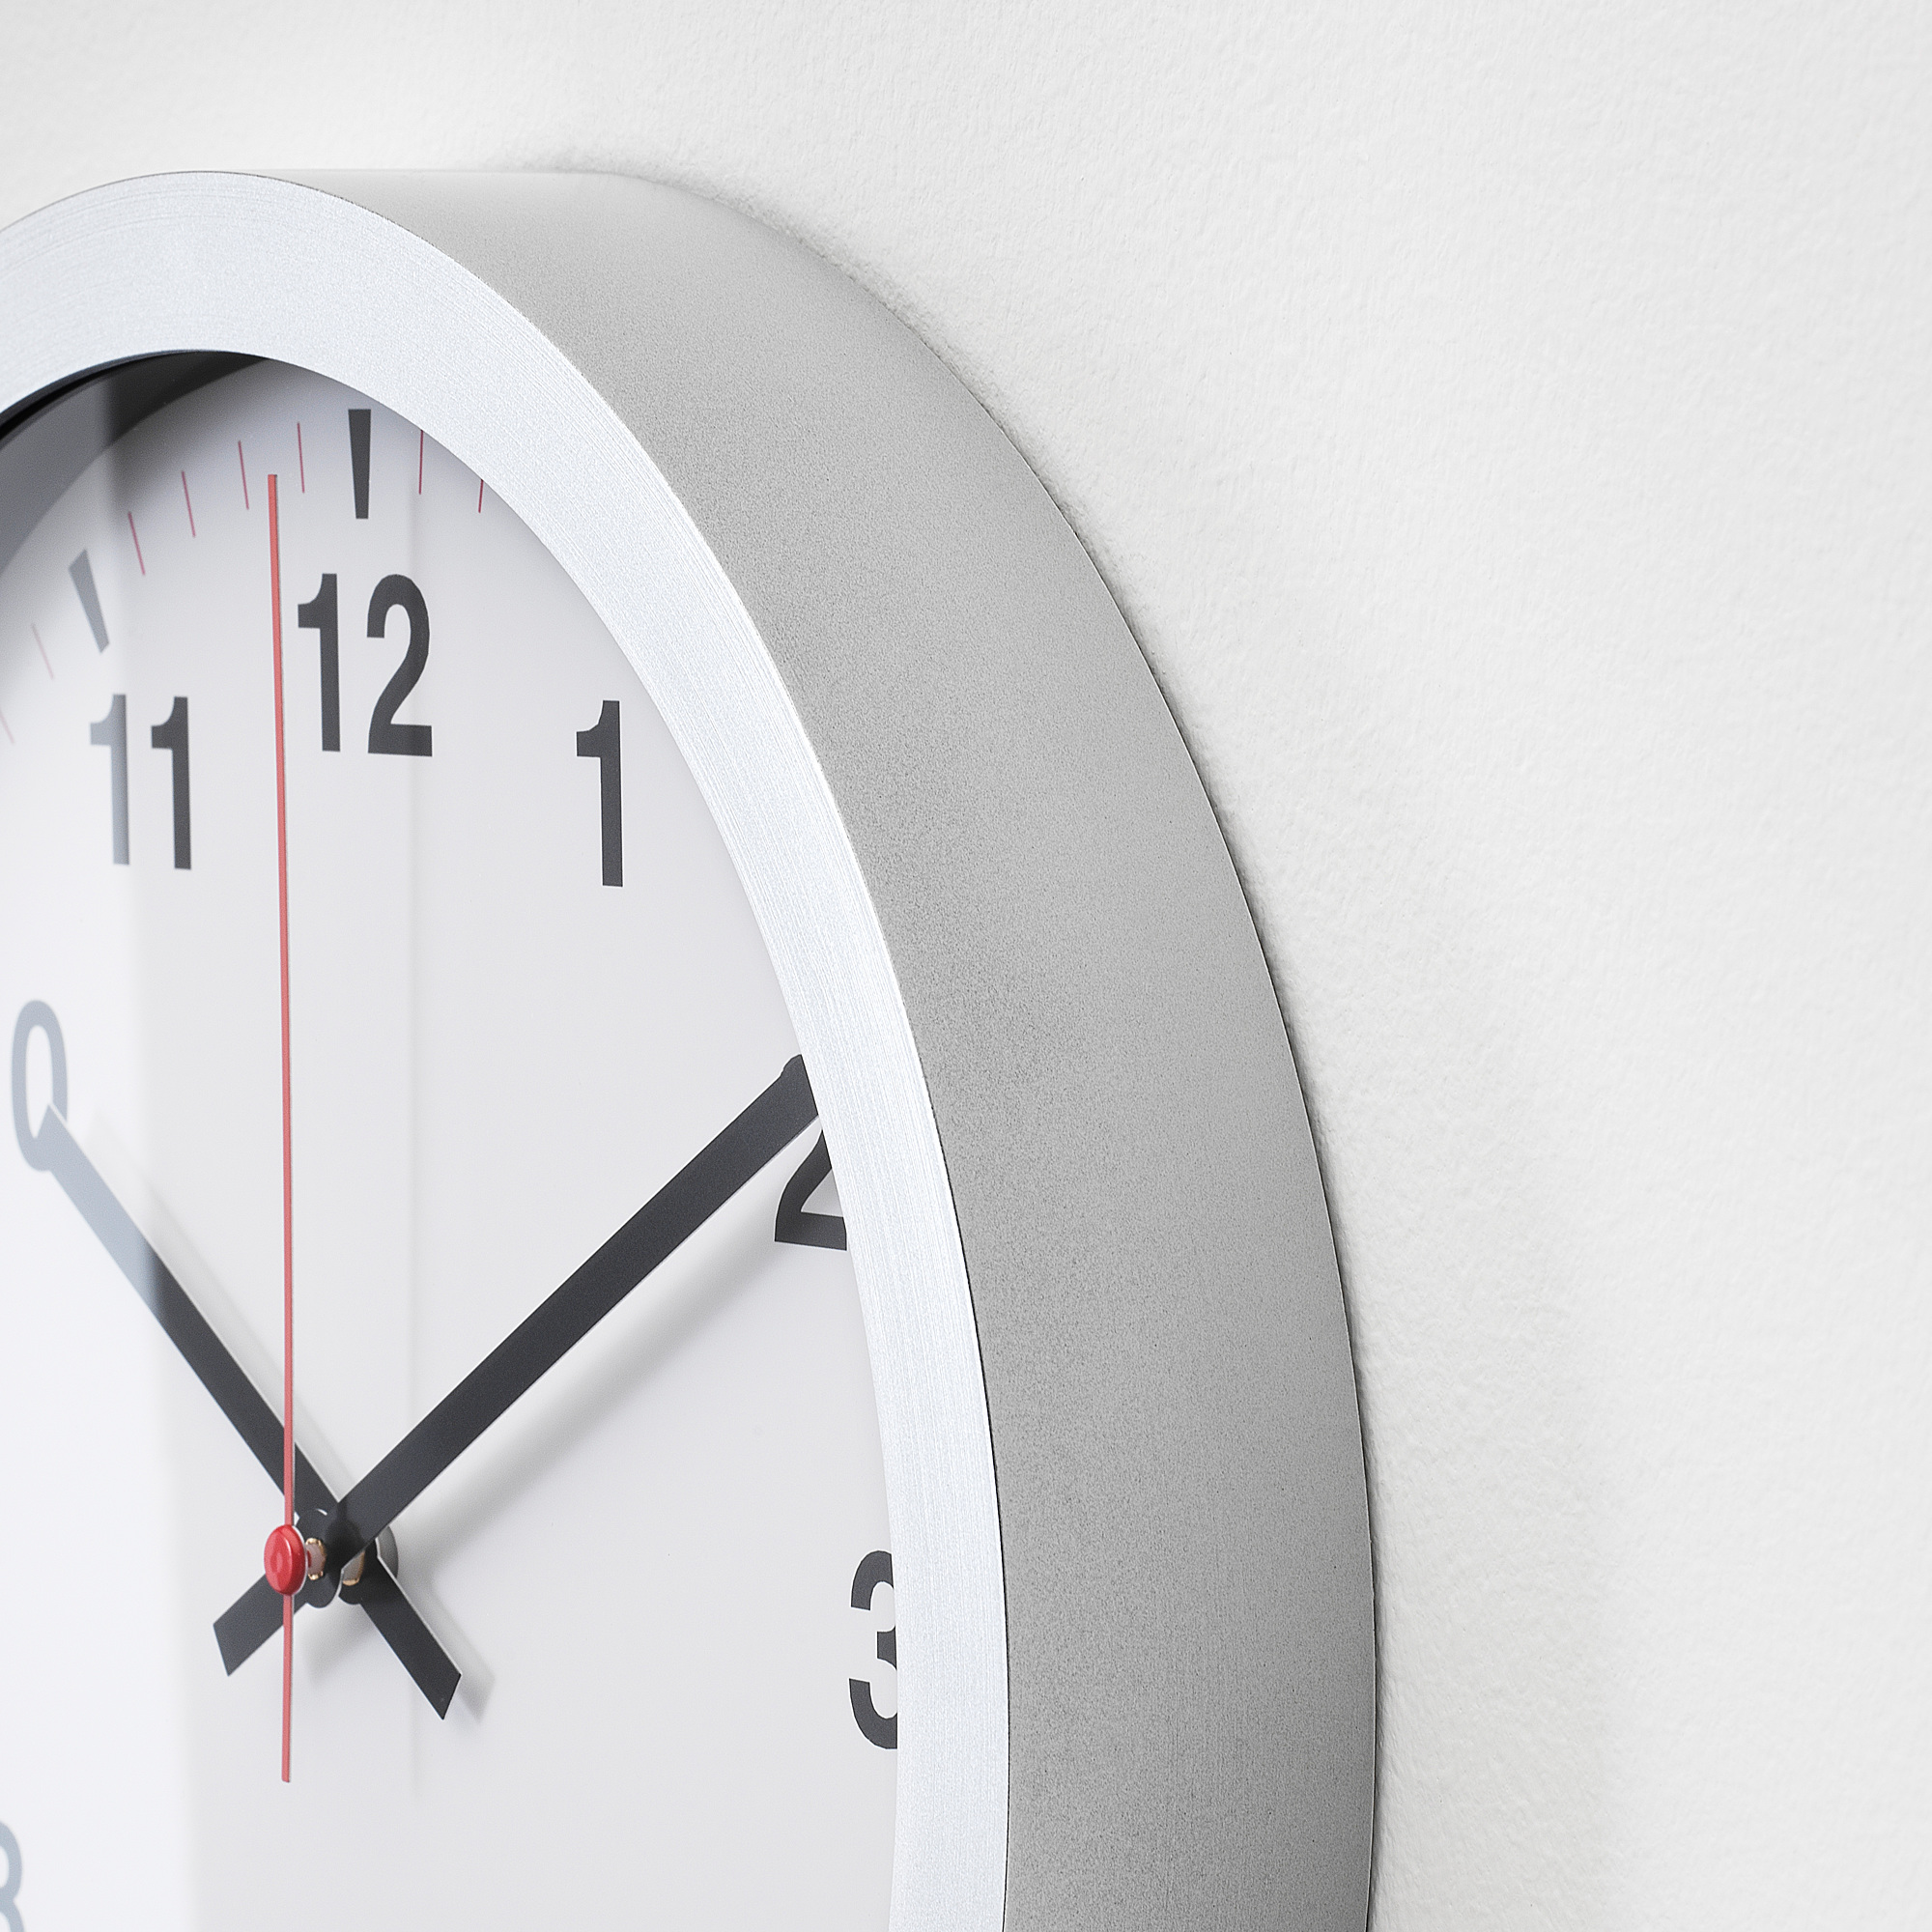jam dinding: (14, 140, 1414, 1932)
